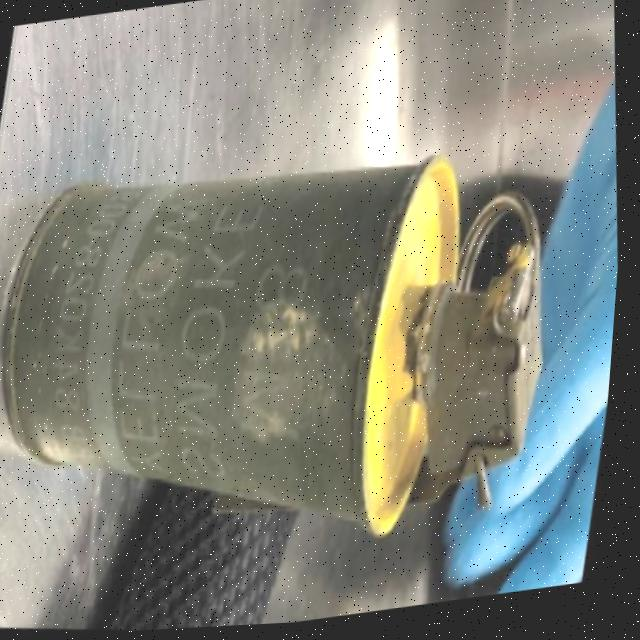grenade: (0, 59, 613, 640)
